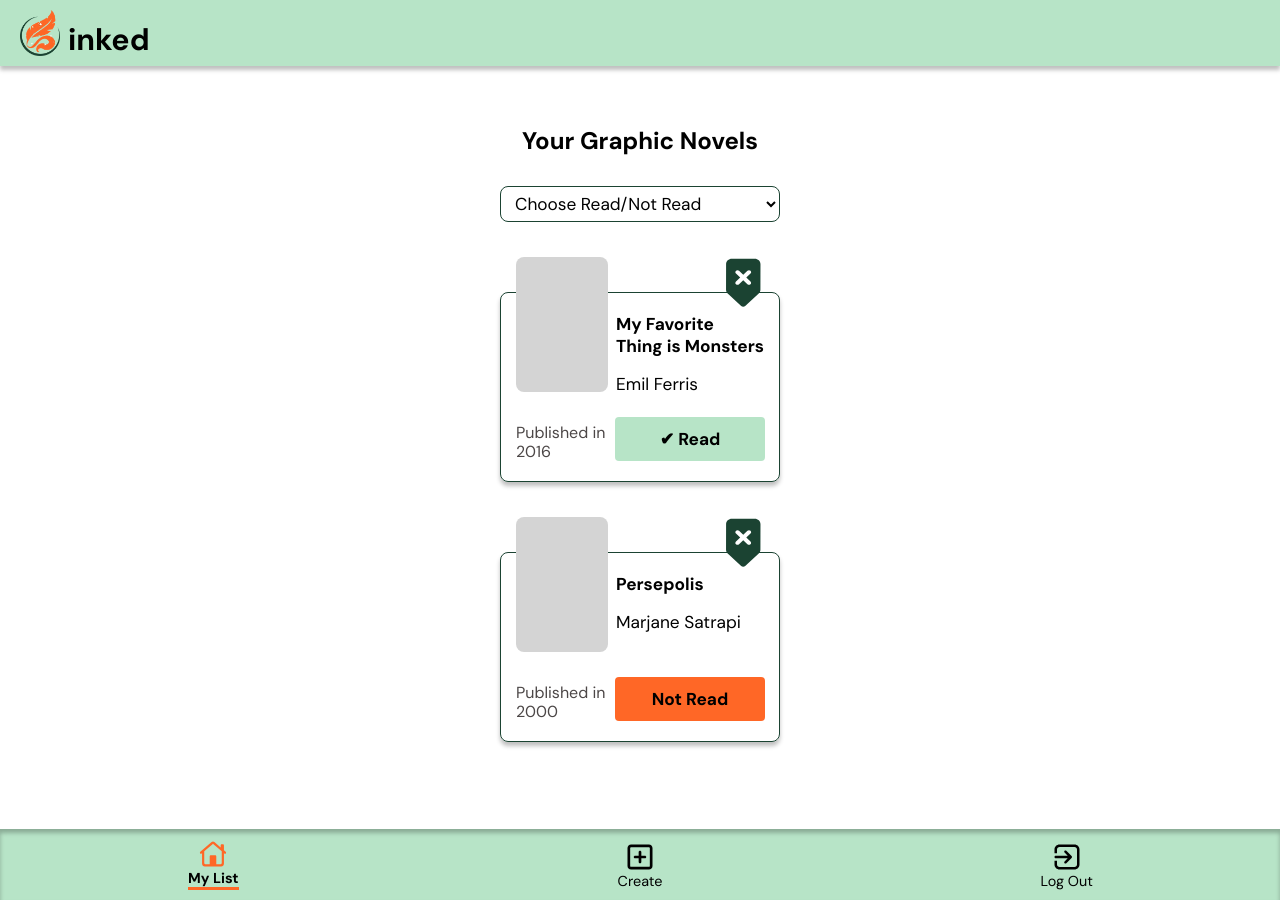
Test case: Given an App component › When the user clicks on the delete icon of the card 'My Favorite Thing is Monsters' › Then it shouldn't show the title 'My Favorite Thing is Monsters' inside a heading
The width and height of the screenshot is (1280, 900).
Click the 1st button with alt text "Delete Card Icon".
click(743, 283)  # box [718,258,768,308]
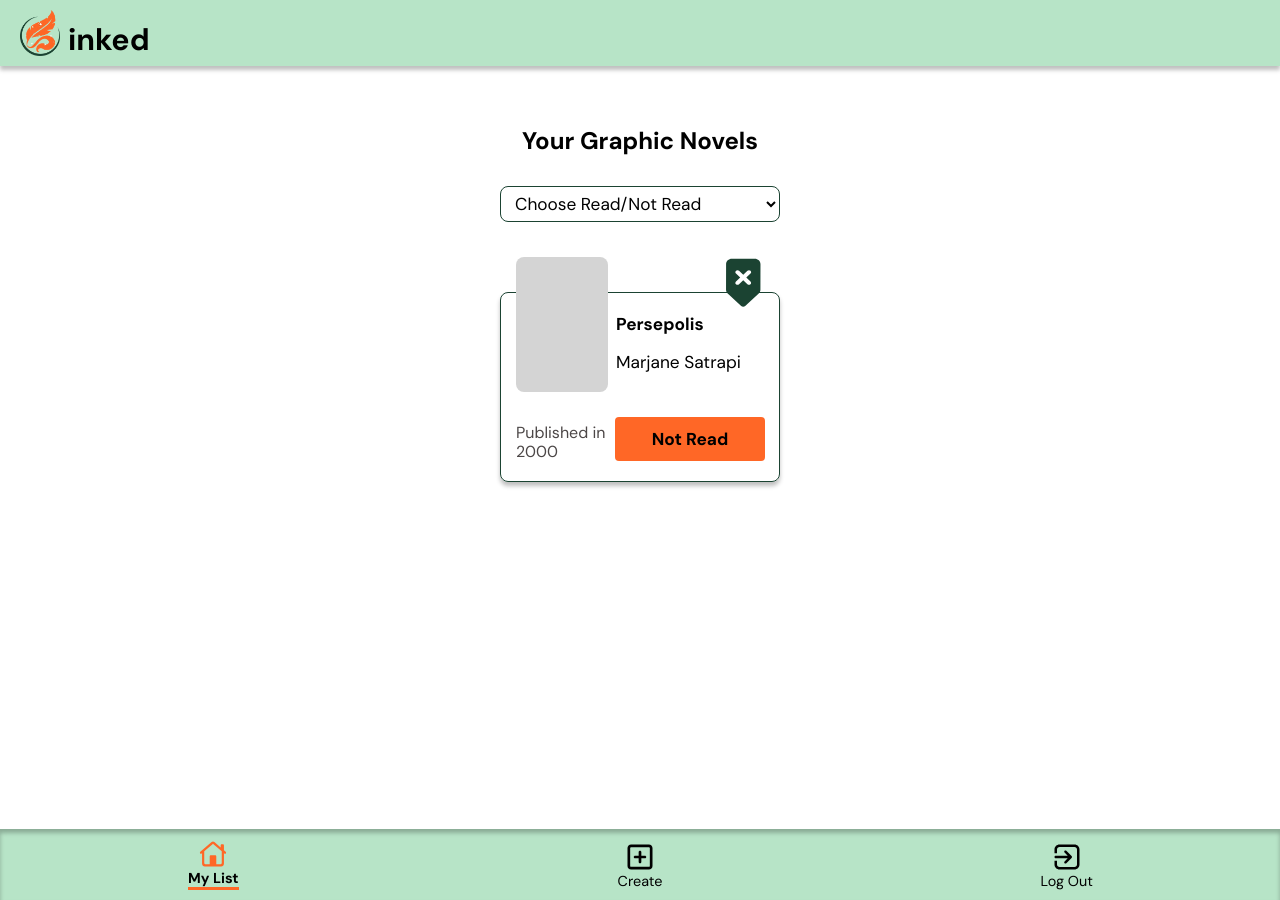
Expected: the link "My Favorite Thing is Monsters" is gone
